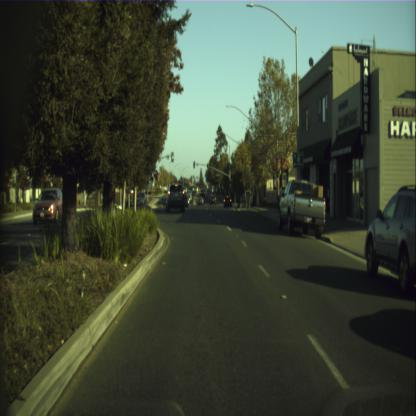Green: (206, 163, 209, 170), (193, 161, 195, 168), (229, 180, 230, 186)
